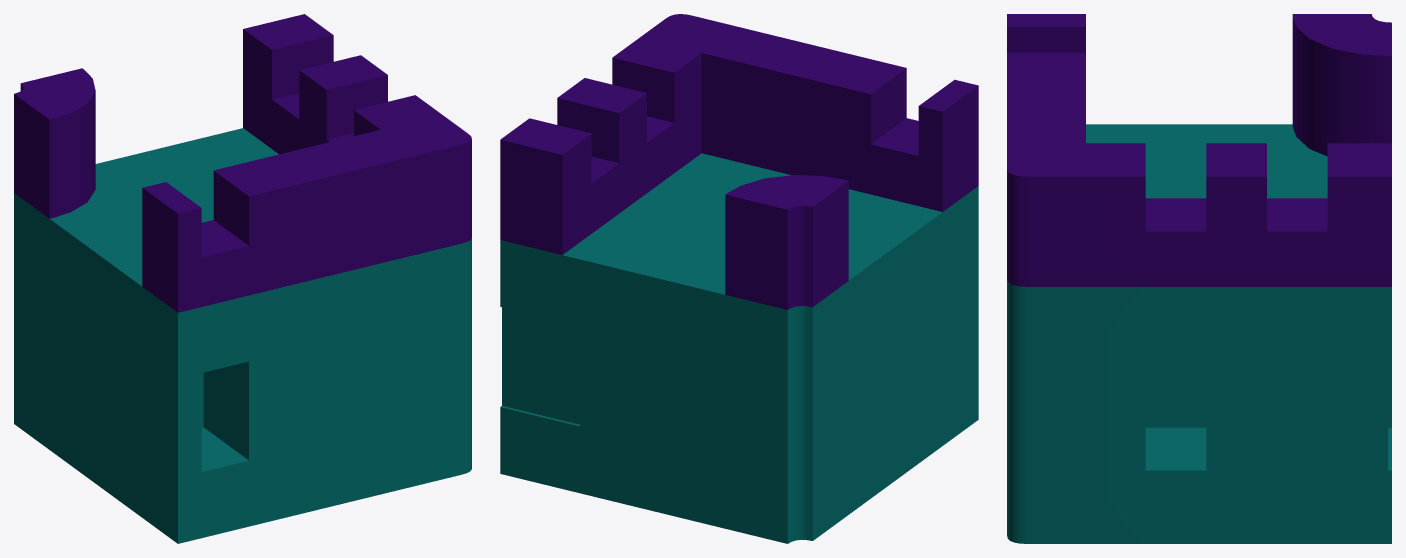
File: Roof_03_L_R.fbx
3 renders of one model, left to right at view 1: azimuth 30°, elevation 25°; view 2: azimuth 150°, elevation 25°; view 3: azimuth 270°, elevation 25°, orthographic. The views are drawn at different scales.
Parts seen in each view (by area): view 1: 3, 1, 4, 2; view 2: 4, 2, 3, 1; view 3: 1, 2, 4, 3.
Part boxes in pixels (box(x1,y1,x2,y2)): 3: box(91, 151, 327, 543); 1: box(292, 95, 471, 507); 4: box(14, 68, 213, 479); 2: box(155, 14, 387, 192); 4: box(652, 175, 891, 543); 2: box(500, 78, 725, 510); 3: box(791, 48, 978, 483); 1: box(612, 14, 826, 209); 1: box(1007, 95, 1199, 543); 2: box(1199, 143, 1391, 543); 4: box(1199, 14, 1391, 198); 3: box(1007, 14, 1199, 198).
Size of the model in its own units: 190 by 200 by 190.
